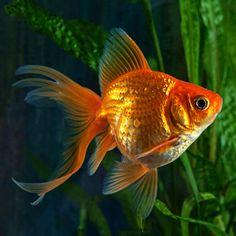goldfish: (51, 57, 226, 191)
